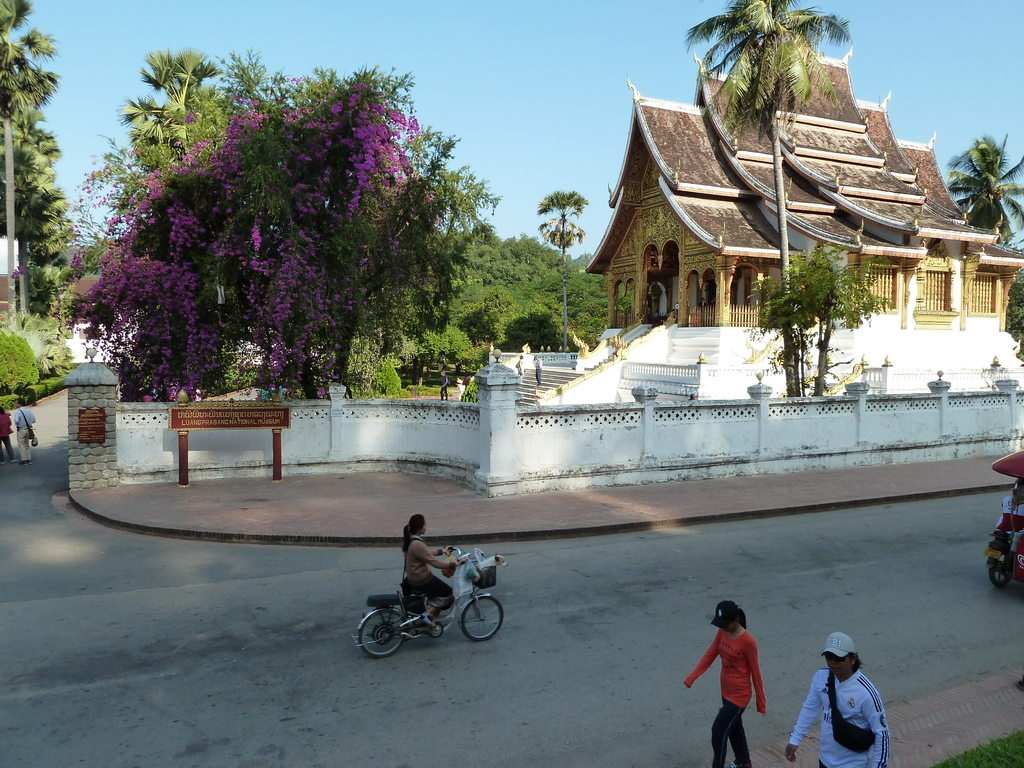Bike: (353, 549, 514, 659)
